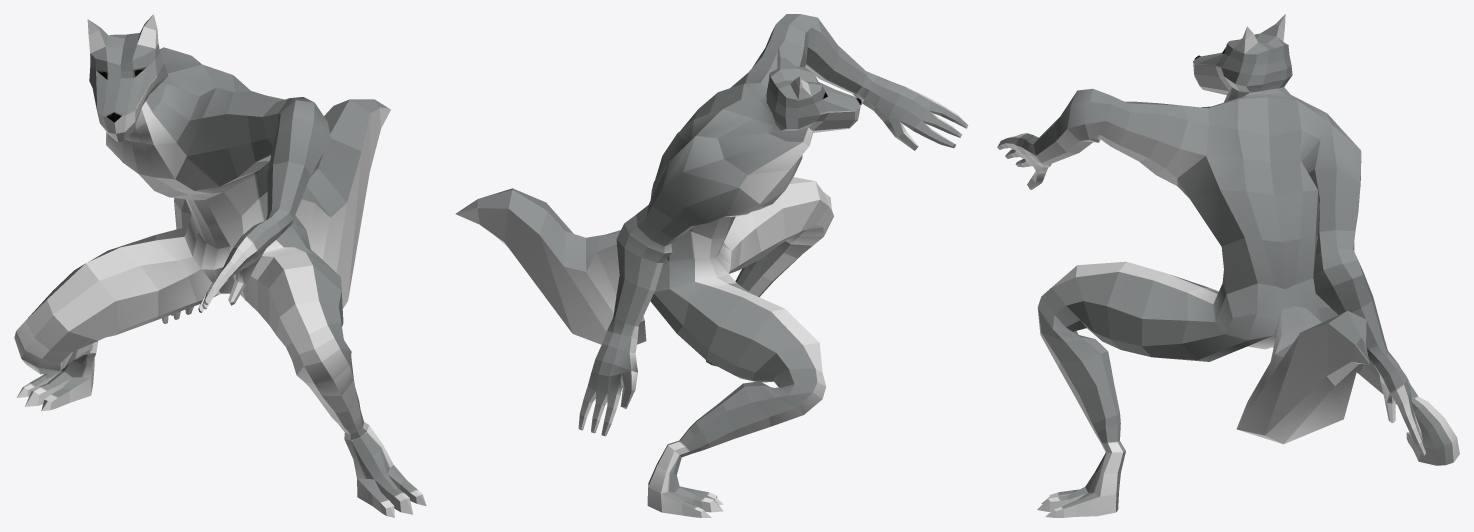
The model's file is WolfAttack(23).obj.
The picture shows the model from 3 angles, left to right: view 1: azimuth 30°, elevation 25°; view 2: azimuth 150°, elevation 25°; view 3: azimuth 270°, elevation 25°; orthographic projection. The views are drawn at different scales.
Visible parts, largest first — view 1: Box001; view 2: Box001; view 3: Box001.
Boxes of the visible parts, <box> form: Box001: <box>14,14,426,517</box>; Box001: <box>455,14,968,517</box>; Box001: <box>997,14,1459,517</box>.
Size of the model in its own units: 100 by 111 by 110.
